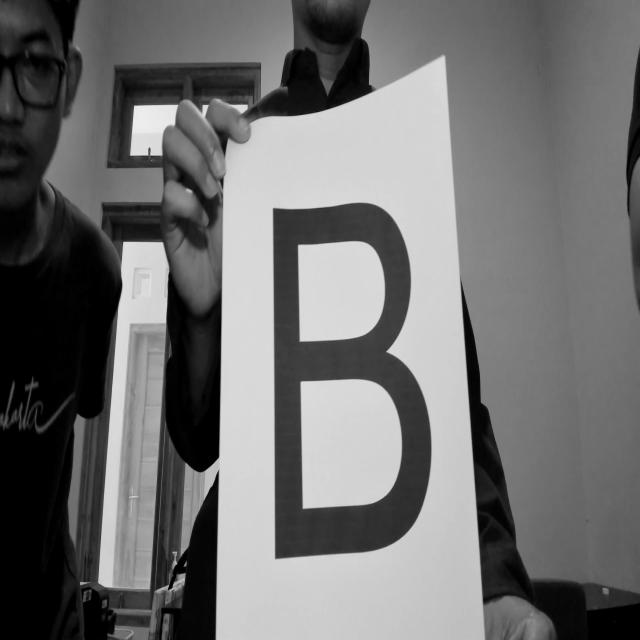b: (267, 194, 435, 566)
